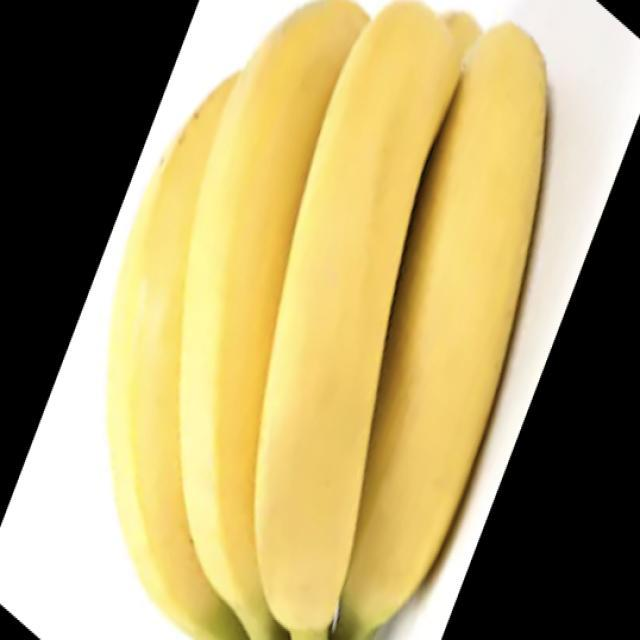Banana: (105, 0, 548, 639)
